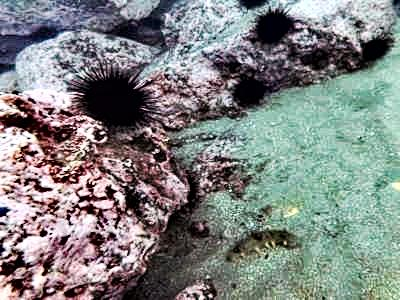urchin: (69, 66, 146, 127), (253, 8, 288, 40), (231, 75, 260, 103), (360, 37, 385, 56)
